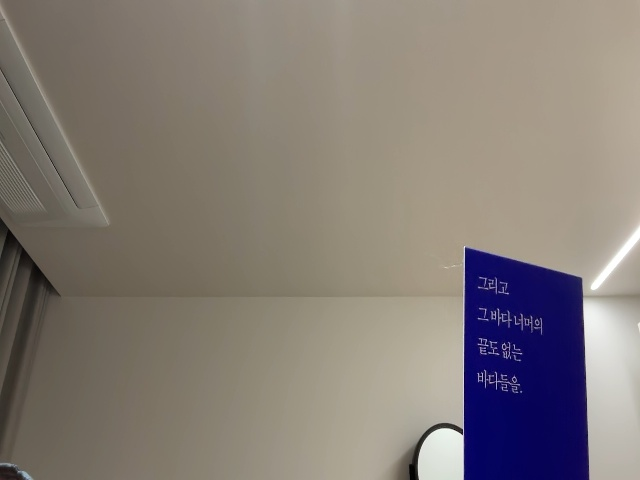card: (462, 247, 590, 480)
